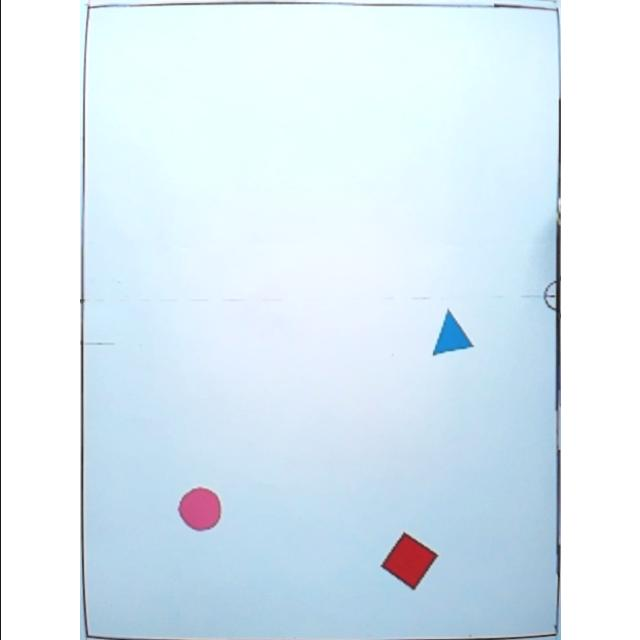blueTriangle: (427, 307, 475, 355)
pinkCircle: (178, 488, 224, 532)
redSquare: (378, 531, 439, 591)
